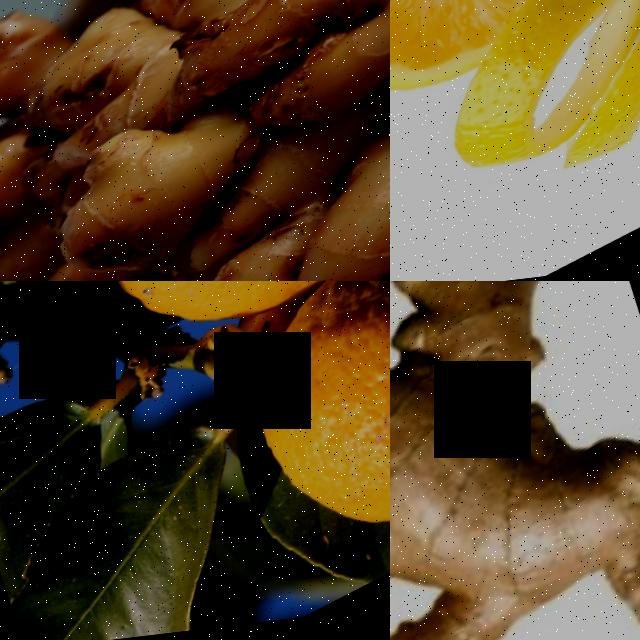ginger: (390, 281, 640, 640), (0, 0, 307, 281), (143, 0, 390, 202), (153, 84, 390, 281)
lemon: (205, 281, 390, 610), (42, 281, 390, 383), (390, 0, 640, 127)
